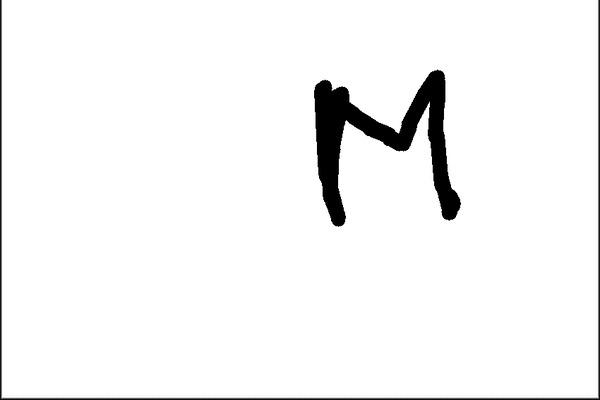M: (305, 65, 465, 222)
